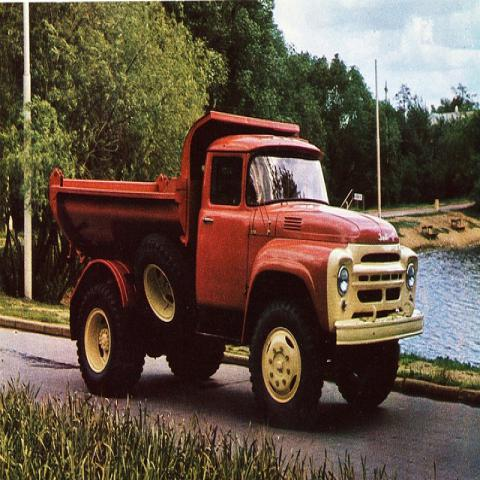truck: (49, 110, 425, 430)
